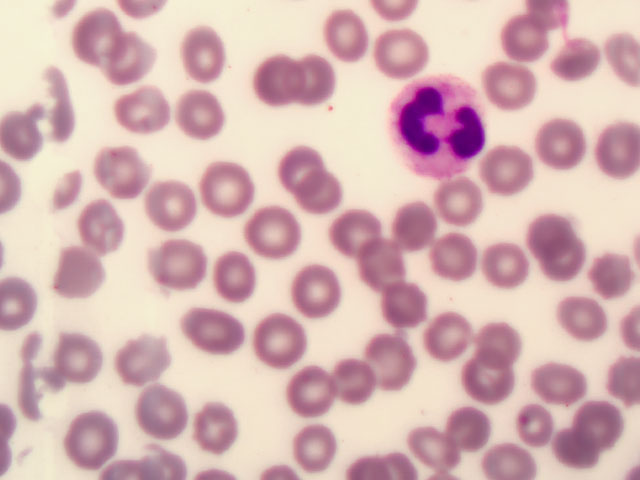RBC: (66, 9, 122, 64), (100, 28, 156, 83), (119, 86, 175, 141), (173, 88, 229, 143), (176, 26, 232, 81), (95, 142, 151, 197), (147, 176, 203, 231), (82, 194, 138, 249), (52, 238, 108, 293), (141, 235, 197, 290), (197, 158, 253, 213), (241, 200, 297, 255), (270, 138, 326, 193), (296, 174, 352, 229), (246, 56, 302, 111), (291, 53, 347, 108), (319, 13, 375, 68), (375, 30, 431, 85), (477, 55, 533, 110), (501, 10, 557, 65), (546, 26, 602, 81), (533, 117, 589, 172), (477, 141, 533, 196), (434, 180, 490, 235), (388, 198, 444, 253), (426, 223, 482, 278), (481, 241, 537, 296), (518, 207, 574, 262), (537, 235, 593, 290), (584, 236, 640, 291), (557, 289, 613, 344), (471, 314, 527, 369), (457, 351, 513, 406), (421, 314, 477, 369), (376, 283, 432, 338), (353, 239, 409, 294), (327, 203, 383, 258), (295, 263, 351, 318), (252, 312, 308, 367), (209, 250, 265, 305), (191, 298, 247, 353), (127, 331, 183, 386), (49, 334, 105, 389), (63, 415, 119, 470), (132, 383, 188, 438), (187, 400, 243, 455), (283, 365, 339, 420), (331, 358, 387, 413), (357, 335, 413, 390), (282, 418, 338, 473), (396, 425, 452, 480), (430, 404, 486, 459), (472, 425, 528, 480), (501, 406, 557, 461), (533, 358, 589, 413), (569, 400, 625, 455), (584, 123, 640, 178), (1, 111, 56, 166)
WBC: (387, 73, 489, 182)
